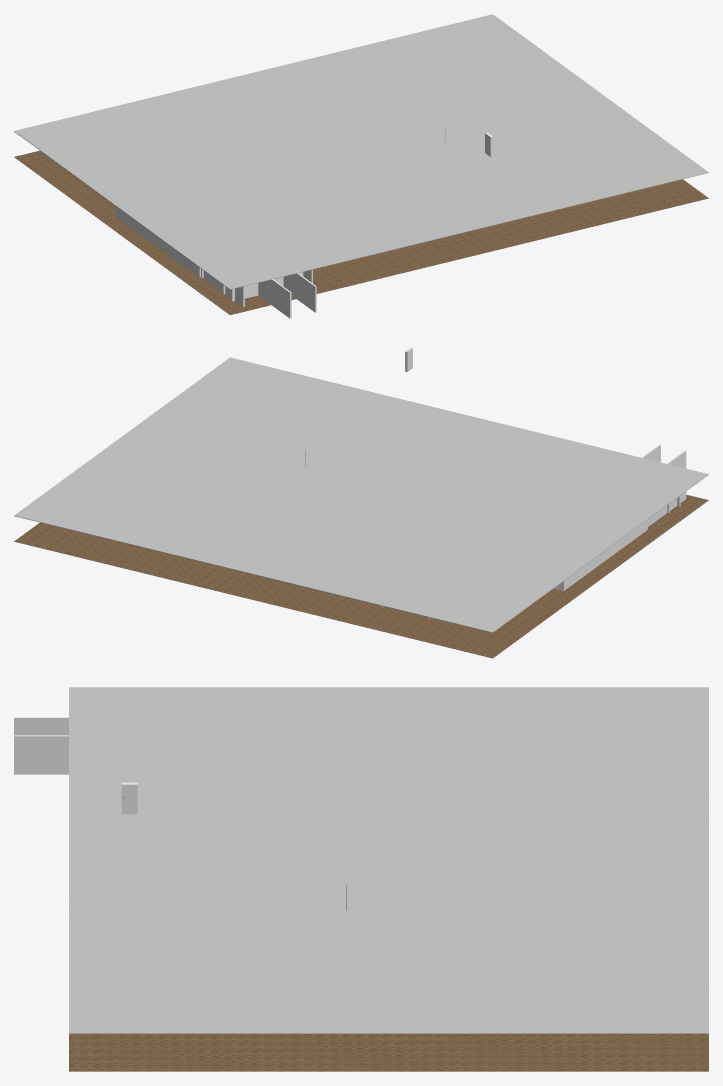
The model's file is MAPA_Prueba.fbx.
The picture shows the model from 3 angles, top to bottom: view 1: azimuth 30°, elevation 25°; view 2: azimuth 150°, elevation 25°; view 3: azimuth 270°, elevation 25°; orthographic projection. The views are drawn at different scales.
Parts seen in each view (by area): view 1: Techo, Suelo, Paredes; view 2: Techo, Suelo, Paredes; view 3: Techo, Suelo, Paredes.
Part boxes in pixels (x1=…): Techo: x1=14, y1=14, x2=708, y2=289; Suelo: x1=14, y1=150, x2=708, y2=315; Paredes: x1=115, y1=132, x2=493, y2=318; Techo: x1=14, y1=357, x2=708, y2=632; Suelo: x1=14, y1=494, x2=708, y2=658; Paredes: x1=380, y1=347, x2=686, y2=618; Techo: x1=69, y1=687, x2=708, y2=1033; Suelo: x1=69, y1=1034, x2=708, y2=1071; Paredes: x1=14, y1=717, x2=137, y2=814.
Bounding box in the file's own units: 5840 × 1635 × 4959.
